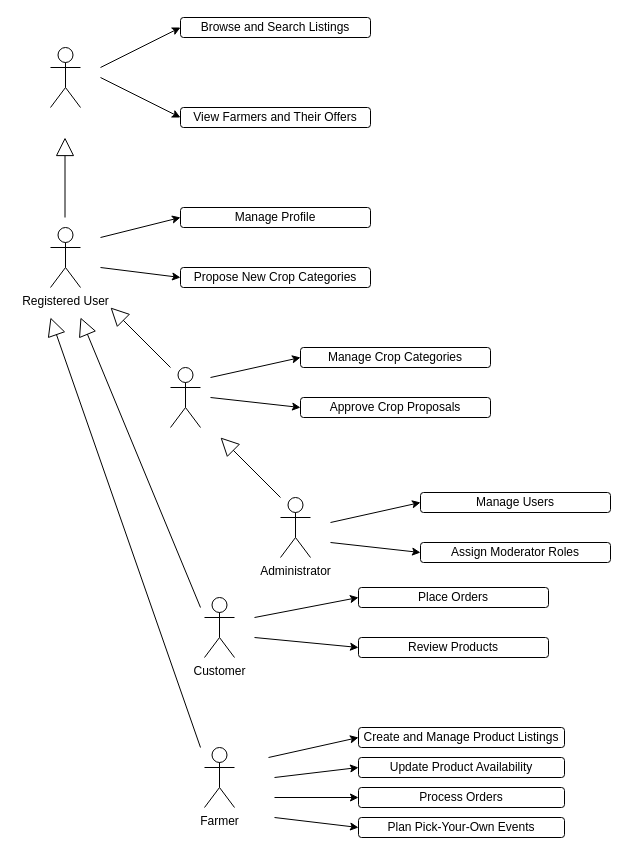
This 628x855 diagram has some shape labels left out. The centre of each missing label's shape, as x and y in pixels:
"Moderator" belongs at pixel 185 397.
"Unregistered User" belongs at pixel 65 77.
